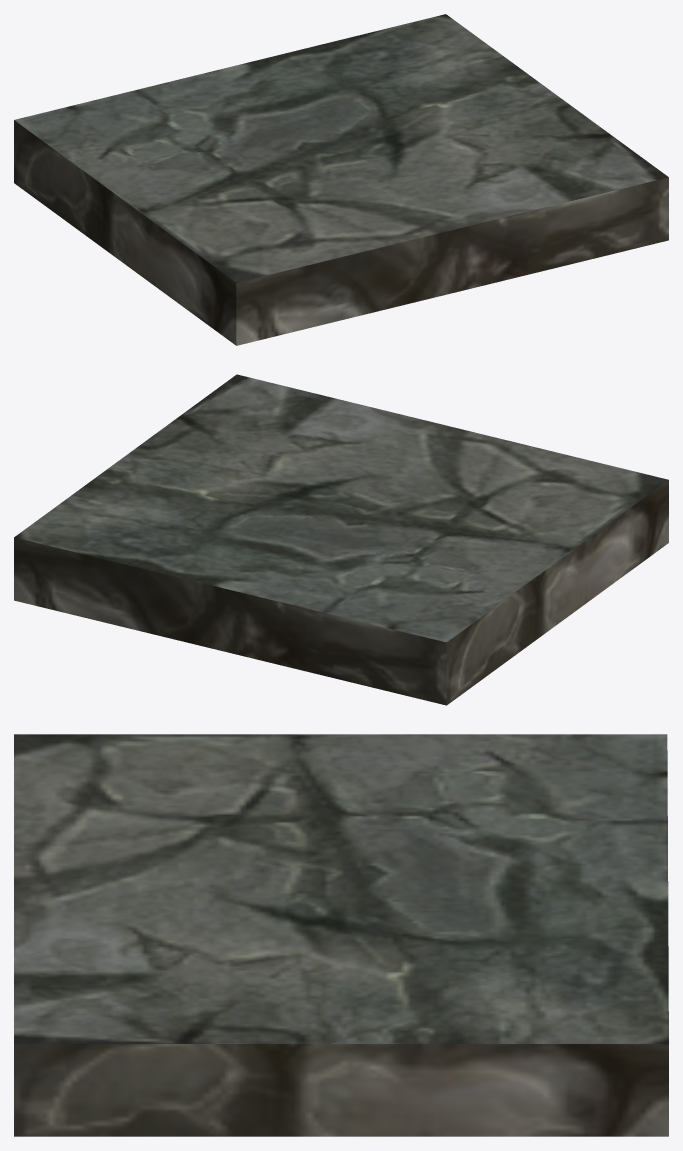
Rendered from Z_dizhuan005.fbx.
3 renders of one model, top to bottom at view 1: azimuth 30°, elevation 25°; view 2: azimuth 150°, elevation 25°; view 3: azimuth 270°, elevation 25°, orthographic. The views are drawn at different scales.
Parts seen in each view (by area): view 1: Z_dizhuan005; view 2: Z_dizhuan005; view 3: Z_dizhuan005.
Boxes of the visible parts, <box> form: Z_dizhuan005: <box>14,14,668,345</box>; Z_dizhuan005: <box>14,374,668,705</box>; Z_dizhuan005: <box>14,734,668,1136</box>.
Bounding box in the file's own units: 142 × 19.8 × 127.
